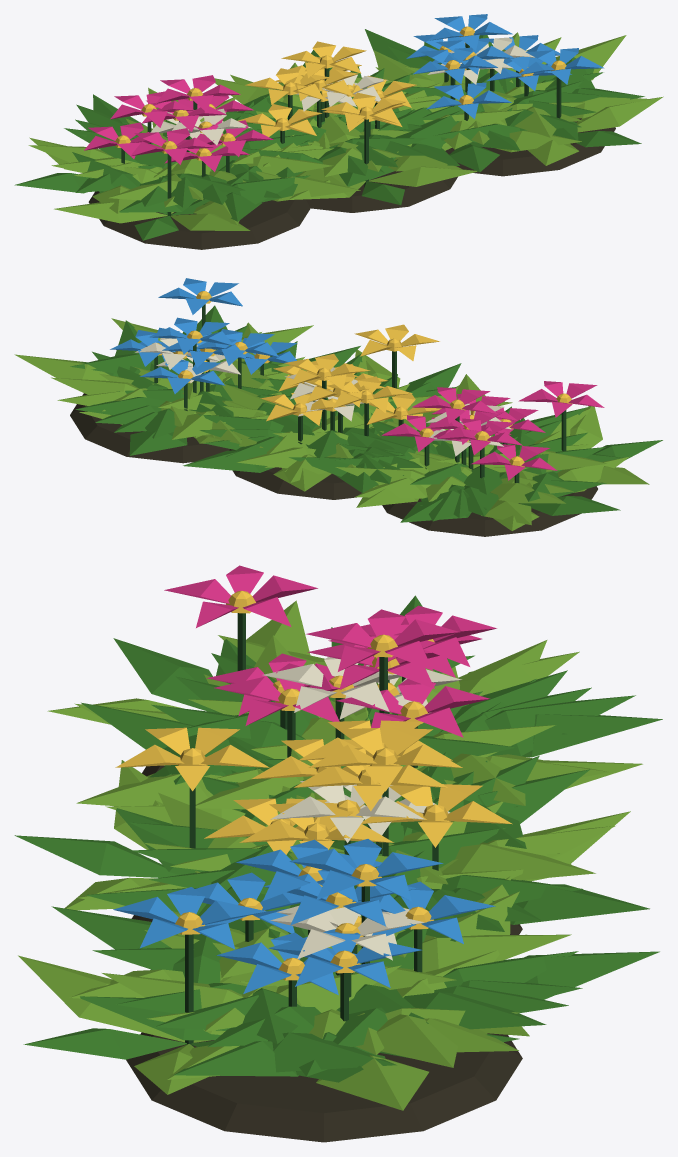
Rendered from courtyard_flowers.glb.
The picture shows the model from 3 angles, top to bottom: view 1: azimuth 30°, elevation 25°; view 2: azimuth 150°, elevation 25°; view 3: azimuth 270°, elevation 25°; orthographic projection. The views are drawn at different scales.
Parts seen in each view (by area): view 1: courtyard_flowers; view 2: courtyard_flowers; view 3: courtyard_flowers.
Part boxes in pixels (x1,y1,x2,y2): courtyard_flowers: (14, 14, 663, 249); courtyard_flowers: (14, 278, 662, 536); courtyard_flowers: (14, 565, 662, 1142).
Bounding box in the file's own units: 2.43 × 0.3772 × 1.27.
